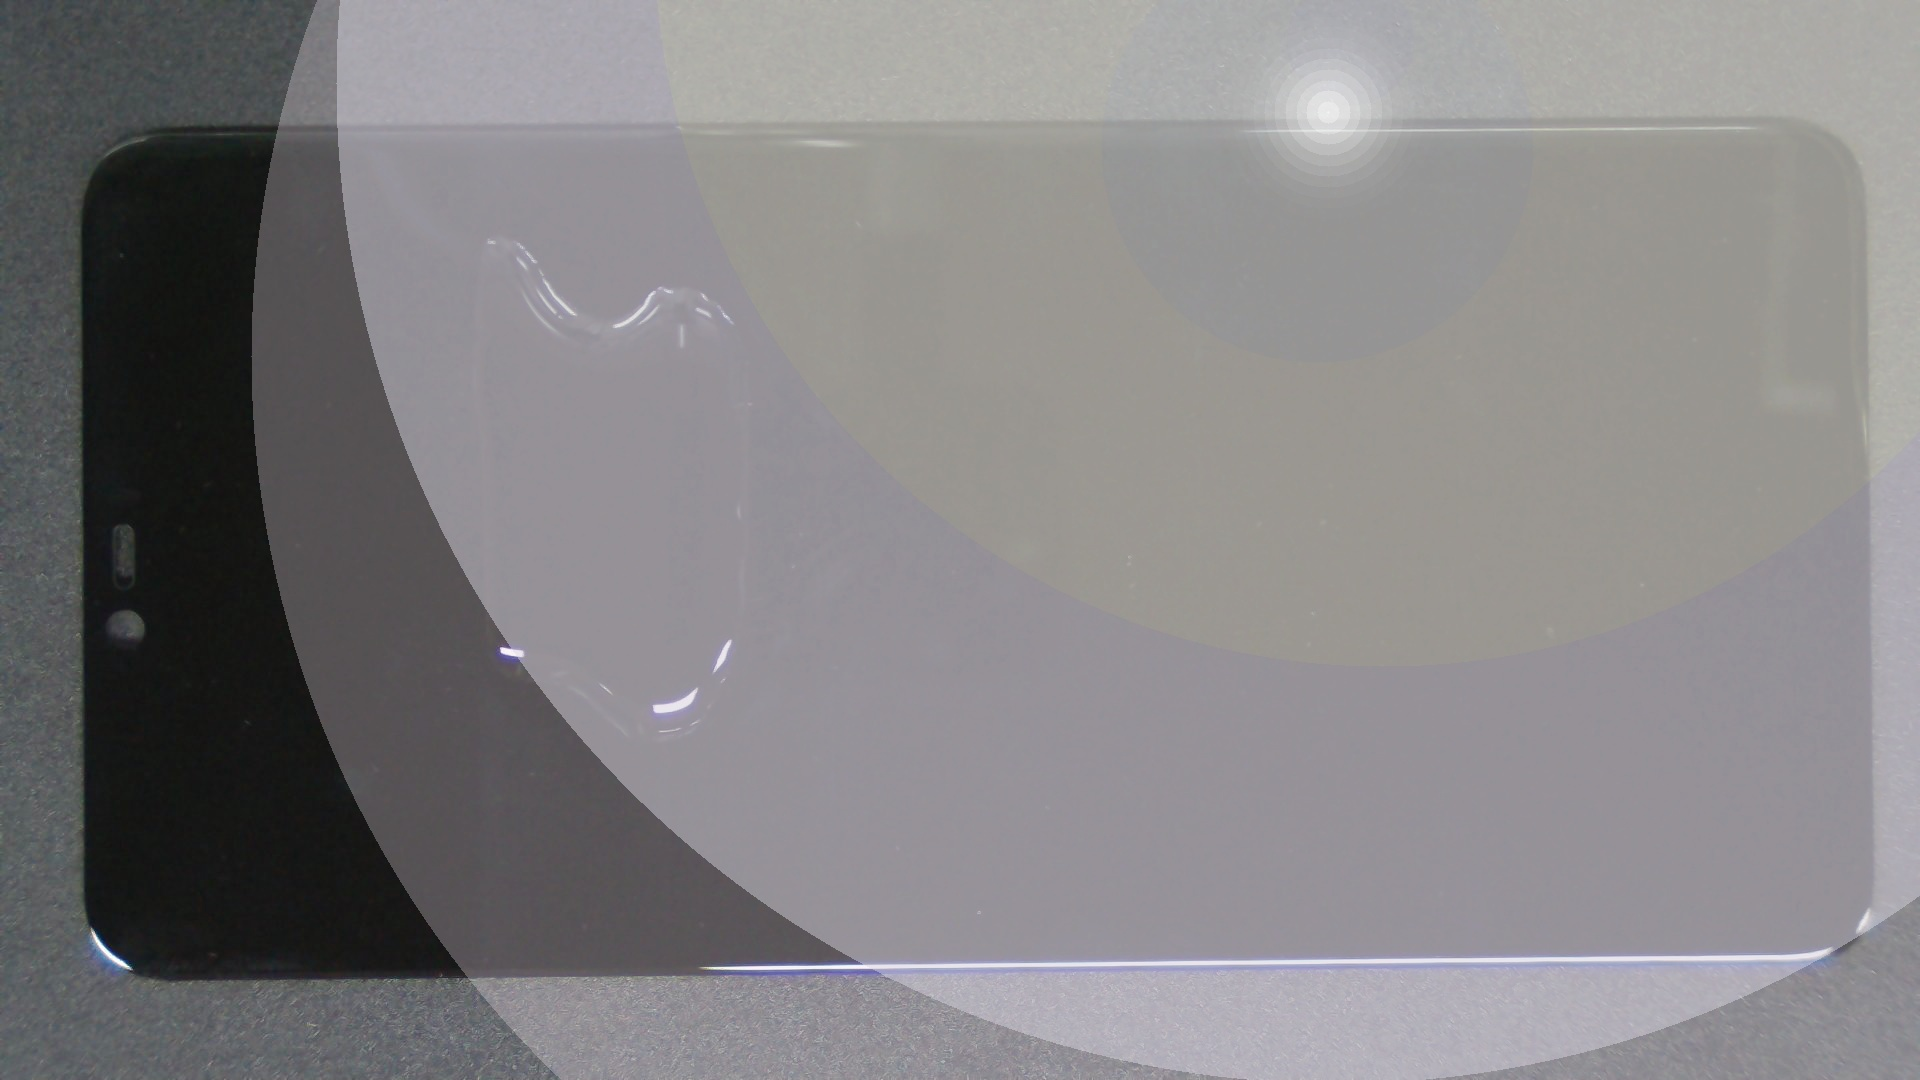oil: (244, 117, 732, 353)
